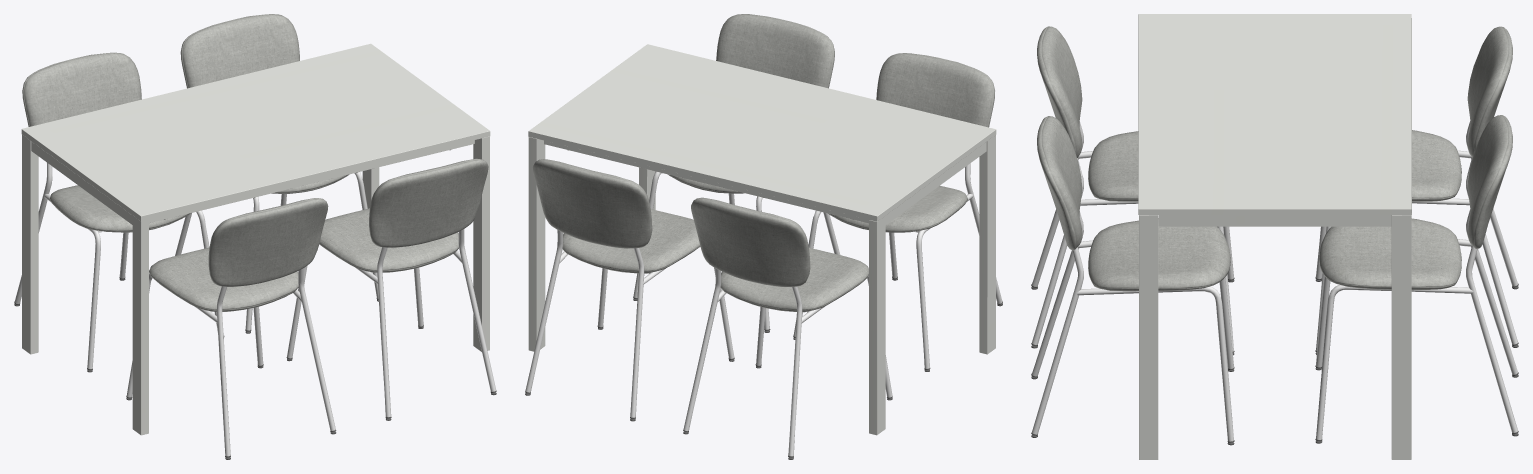
File: VIHALStable.glb
3 views of the same model, side by side, from view 1: azimuth 30°, elevation 25°; view 2: azimuth 150°, elevation 25°; view 3: azimuth 270°, elevation 25° (orthographic). The views are drawn at different scales.
Visible parts, largest first — view 1: 79599524_table_and_4_chairs.023, 79599524_table_and_4_chairs.017, 79599524_table_and_4_chairs.021; view 2: 79599524_table_and_4_chairs.023, 79599524_table_and_4_chairs.017, 79599524_table_and_4_chairs.021; view 3: 79599524_table_and_4_chairs.023, 79599524_table_and_4_chairs.017, 79599524_table_and_4_chairs.021.
Boxes of the visible parts, x1=… form: 79599524_table_and_4_chairs.023: x1=21, y1=43, x2=490, y2=435; 79599524_table_and_4_chairs.017: x1=22, y1=14, x2=488, y2=311; 79599524_table_and_4_chairs.021: x1=14, y1=162, x2=496, y2=456; 79599524_table_and_4_chairs.023: x1=528, y1=44, x2=996, y2=435; 79599524_table_and_4_chairs.017: x1=533, y1=14, x2=994, y2=312; 79599524_table_and_4_chairs.021: x1=525, y1=163, x2=1002, y2=456; 79599524_table_and_4_chairs.023: x1=1138, y1=14, x2=1411, y2=459; 79599524_table_and_4_chairs.017: x1=1037, y1=26, x2=1512, y2=291; 79599524_table_and_4_chairs.021: x1=1032, y1=121, x2=1517, y2=441.
Bounding box in the file's own units: 1.25 × 0.8048 × 1.32.
Materials: 1 (1 with a texture image).
